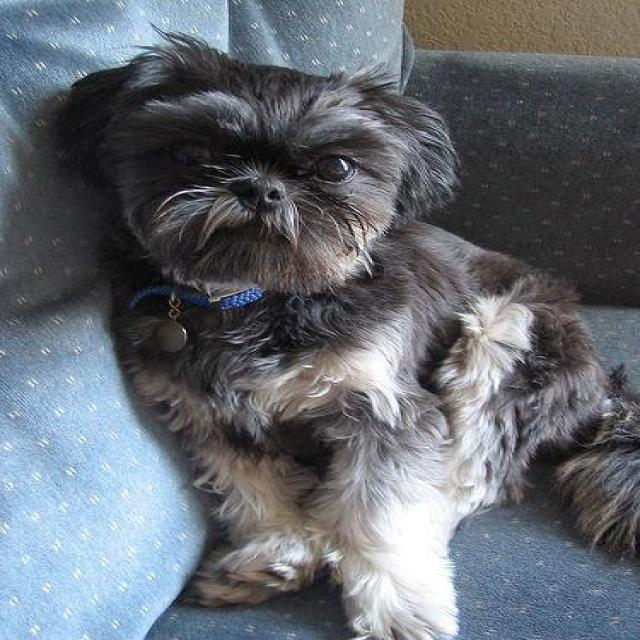shih_tzu: (61, 22, 636, 637)
